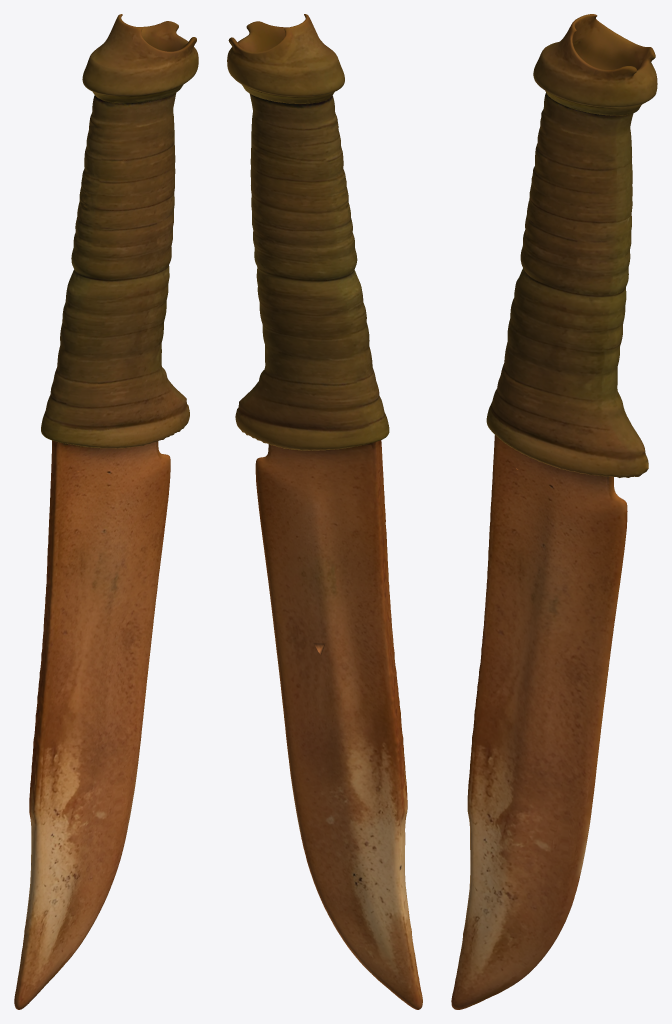
3 renders of one model, left to right at view 1: azimuth 30°, elevation 25°; view 2: azimuth 150°, elevation 25°; view 3: azimuth 330°, elevation 25°, orthographic. The views are drawn at different scales.
Visible parts, largest first — view 1: node_0; view 2: node_0; view 3: node_0.
Boxes of the visible parts, left/top/right/bottom form: node_0: left=14, top=14, right=198, bottom=1009; node_0: left=227, top=14, right=422, bottom=1009; node_0: left=451, top=14, right=657, bottom=1009.
Bounding box in the file's own units: 0.2371 × 1.18 × 0.0925.
Materials: 1 (1 with a texture image).
